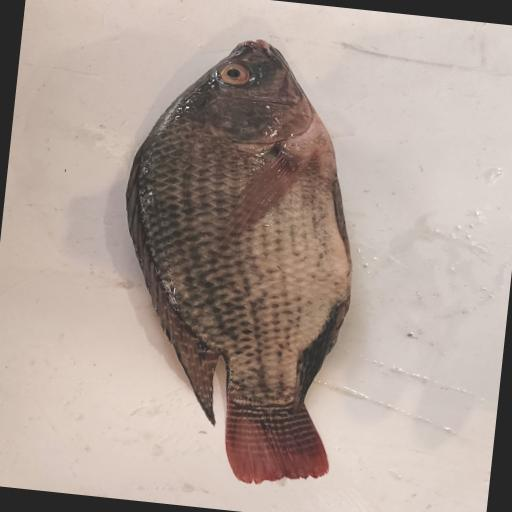Tilapia: (97, 27, 378, 494)
